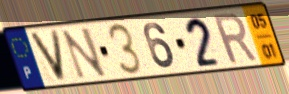2: (182, 14, 225, 72)
3: (107, 21, 144, 77)
6: (142, 21, 177, 71)
N: (59, 25, 109, 82)
R: (210, 11, 260, 67)
V: (26, 28, 69, 85)
